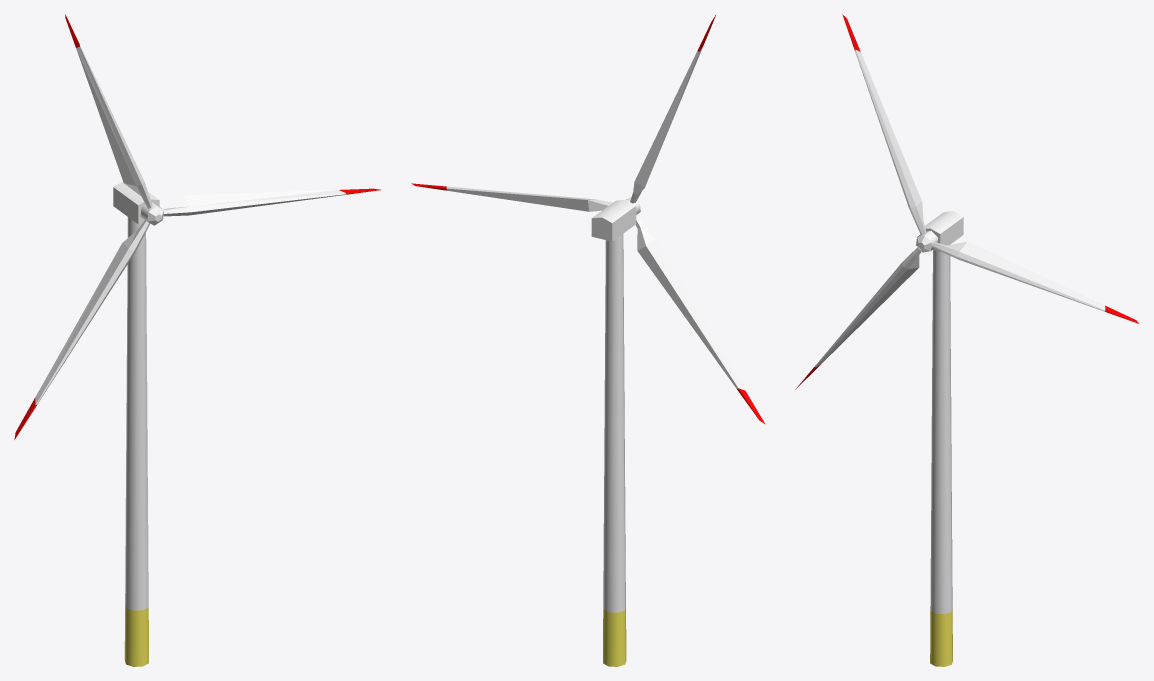
3 renders of one model, left to right at view 1: azimuth 30°, elevation 25°; view 2: azimuth 150°, elevation 25°; view 3: azimuth 330°, elevation 25°, orthographic. The views are drawn at different scales.
Visible parts, largest first — view 1: Lo-风力发电车支杆_01, Lo-风力发电车螺旋桨_01; view 2: Lo-风力发电车支杆_01, Lo-风力发电车螺旋桨_01; view 3: Lo-风力发电车支杆_01, Lo-风力发电车螺旋桨_01.
Boxes of the visible parts, x1,y1,x2,y2 form: Lo-风力发电车支杆_01: [113, 181, 159, 666]; Lo-风力发电车螺旋桨_01: [14, 14, 381, 439]; Lo-风力发电车支杆_01: [591, 200, 636, 666]; Lo-风力发电车螺旋桨_01: [411, 15, 765, 424]; Lo-风力发电车支杆_01: [925, 211, 963, 666]; Lo-风力发电车螺旋桨_01: [795, 14, 1138, 389].
Size of the model in its own units: 16.89 by 29.89 by 2.76.
1 material, 1 textured.
